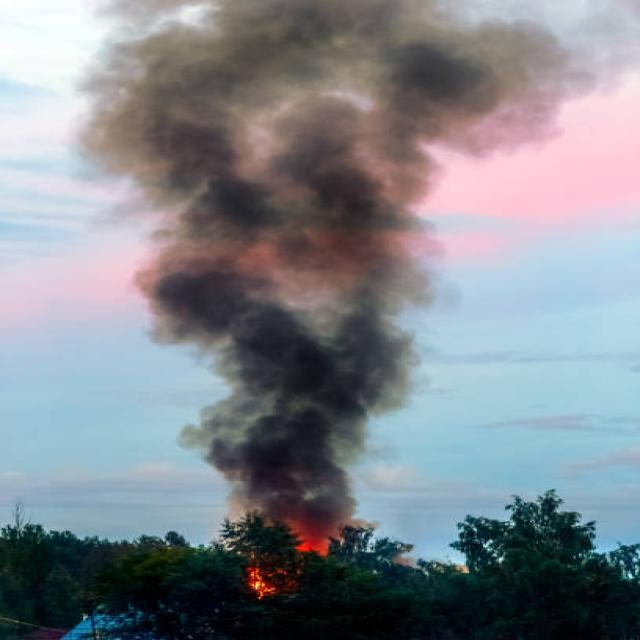Fire: (240, 523, 330, 596)
Smoke: (96, 0, 550, 542)
